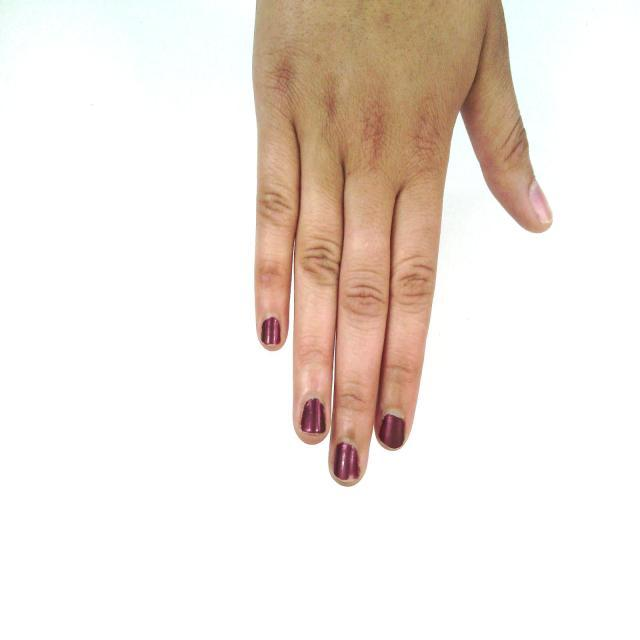Fingernail: (530, 182, 552, 223), (334, 443, 359, 479), (379, 415, 404, 449), (300, 399, 325, 432), (262, 317, 280, 344)
